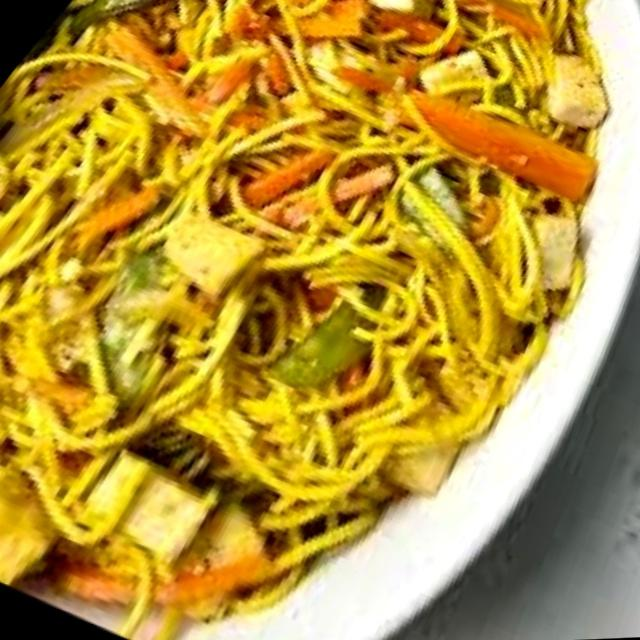pancit bihon: (0, 2, 586, 620)
